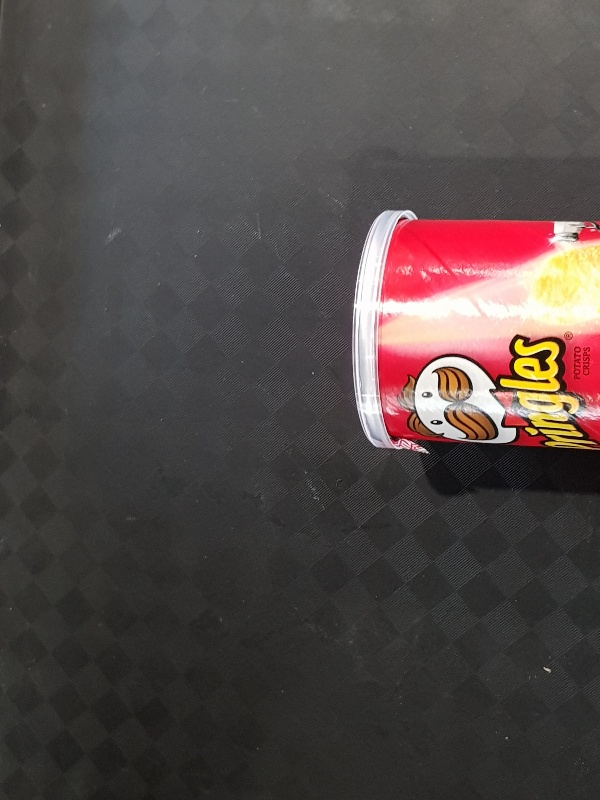Pringles Original: (349, 207, 600, 458)
